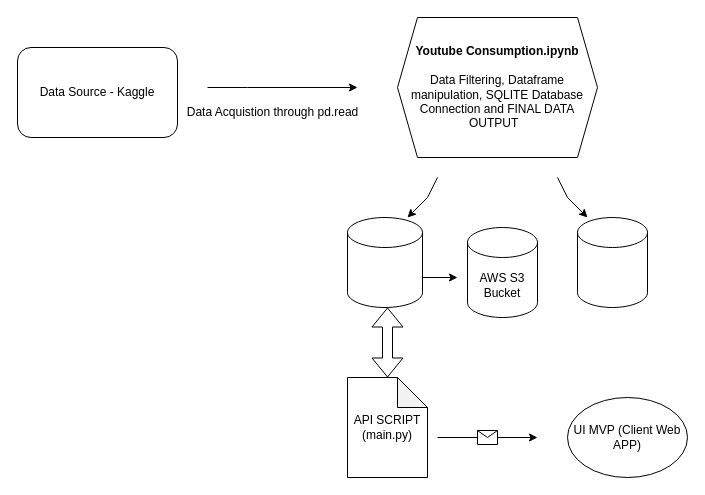
Some shapes in this 705 by 495 pixel diagram are drawn without their labels. The shapes that lost their labels are listed below. From the top down, each one's centre as x and y in pixels, then its label:
At (x=384, y=262): "(SQLite DB) youtube profiles.db".
At (x=612, y=262): "Saved Locally".
